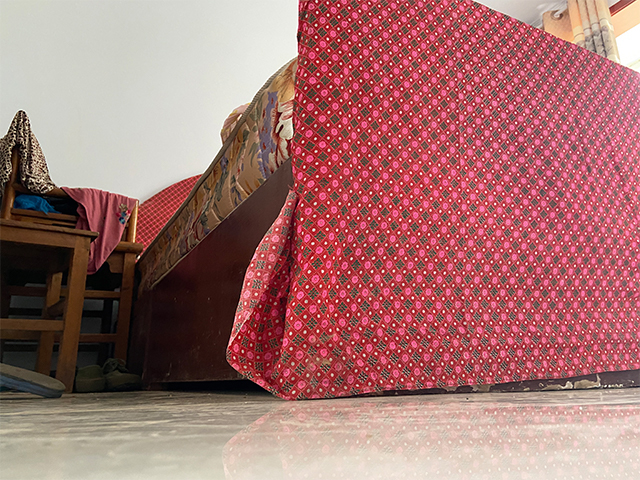bed: (127, 1, 640, 401)
